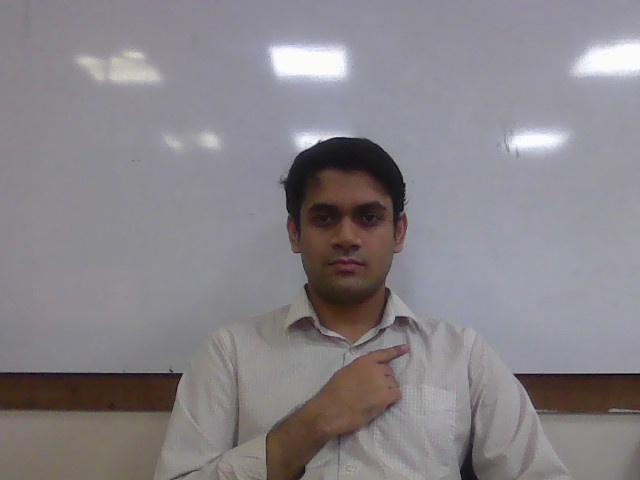Ami: (307, 343, 413, 438)
